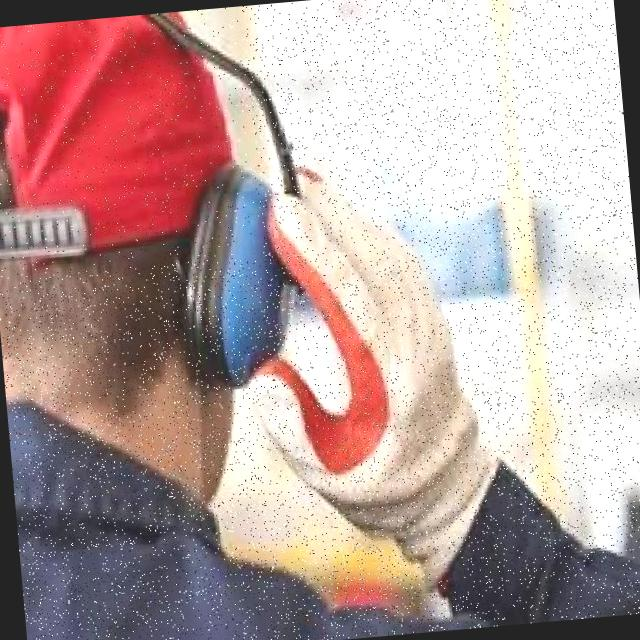gloves: (262, 135, 547, 578)
helmet: (0, 6, 263, 278)
